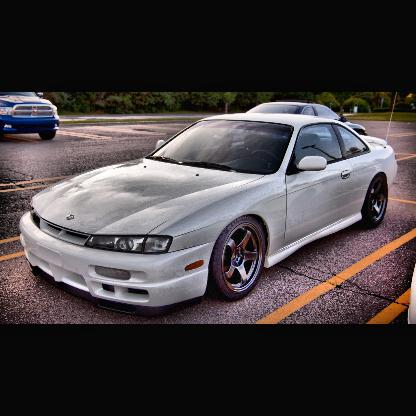Nissan 240SX Coupe 1998: (24, 116, 401, 308)
